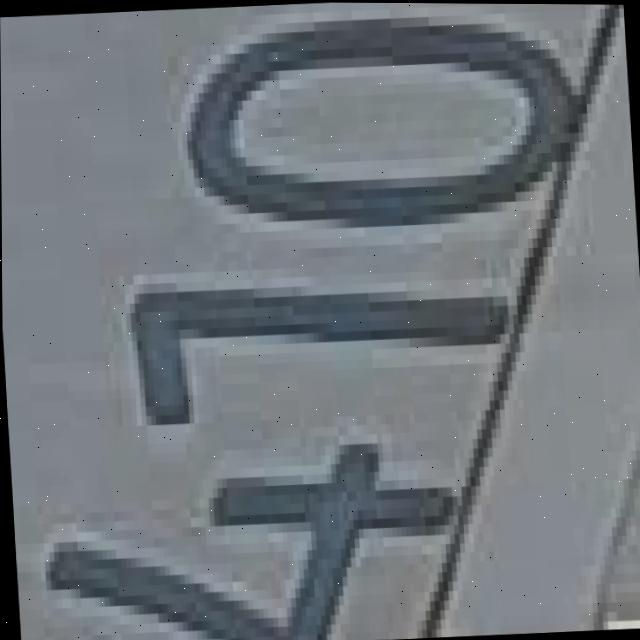character: (174, 1, 594, 251), (30, 424, 473, 640), (113, 260, 523, 441)
